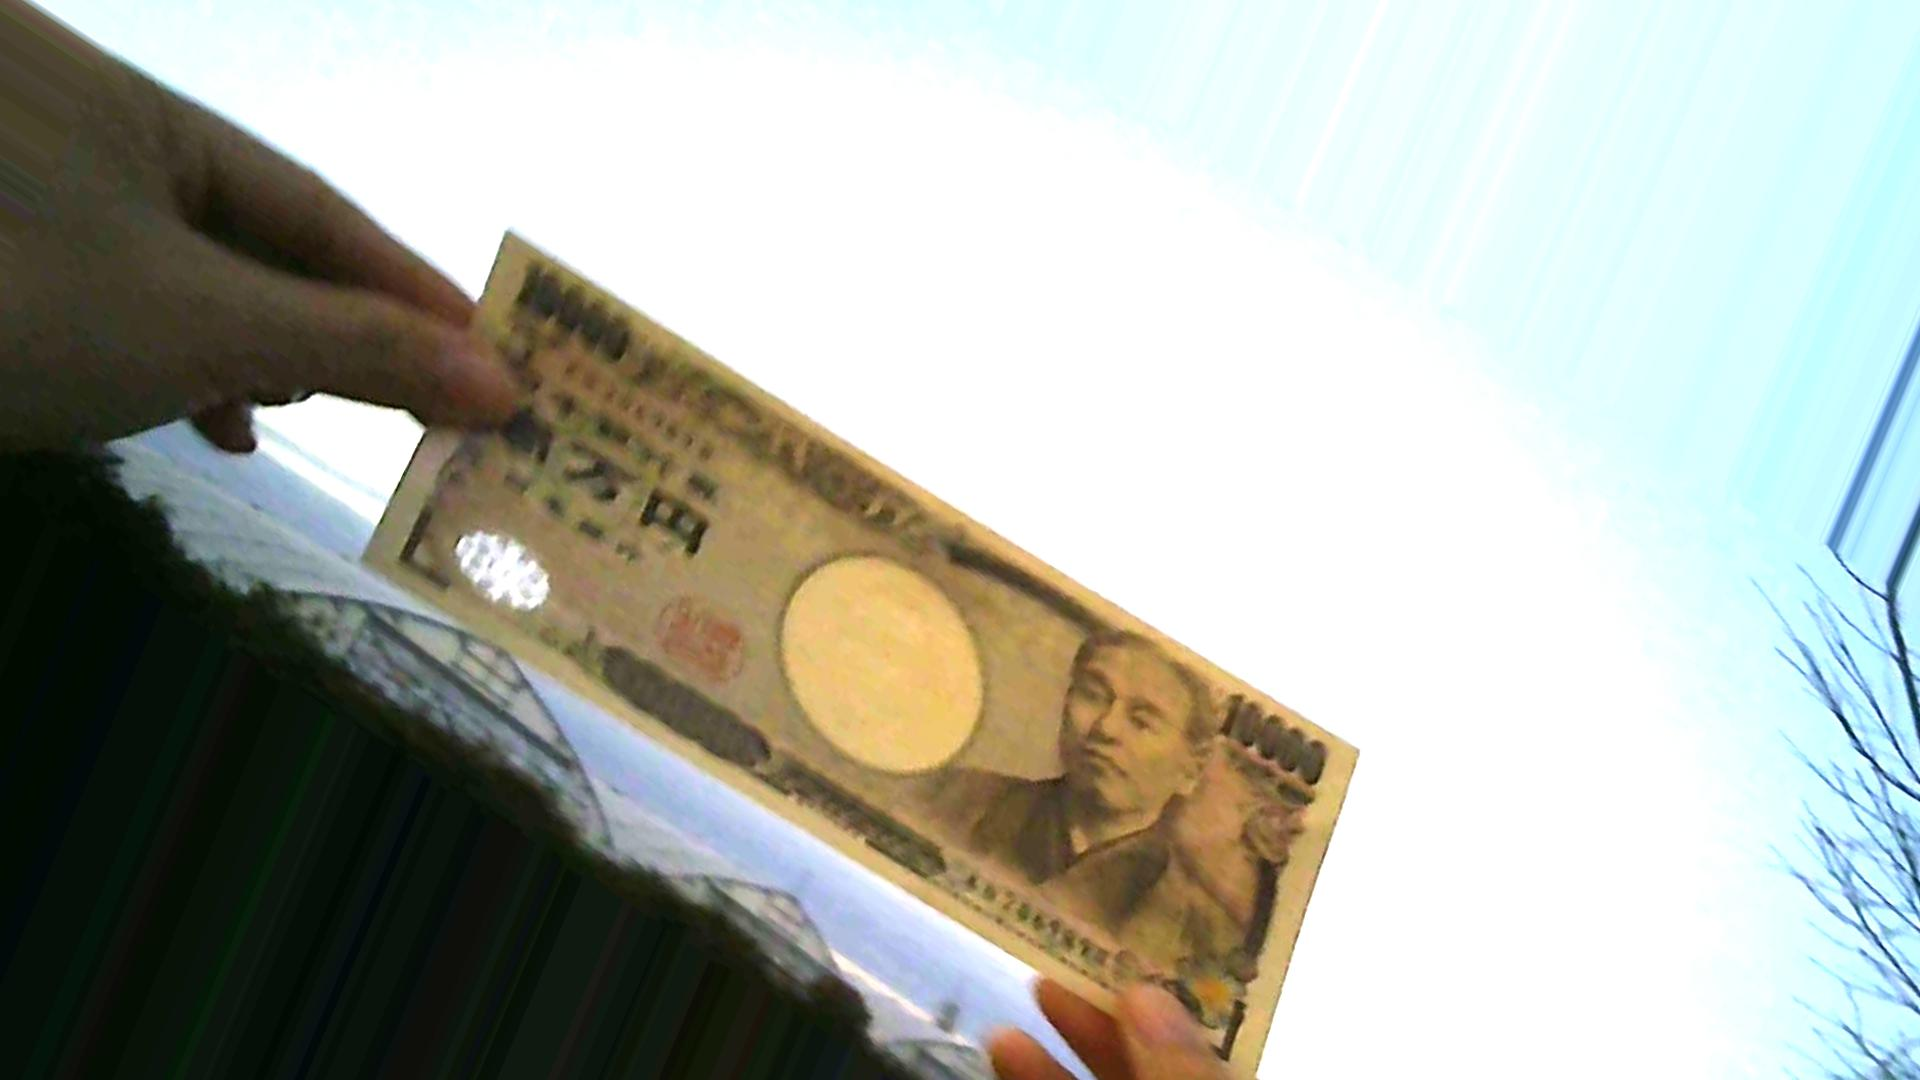10,000 Yen: (334, 228, 1378, 1079)
